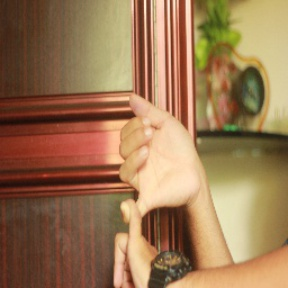S: (107, 92, 211, 288)
